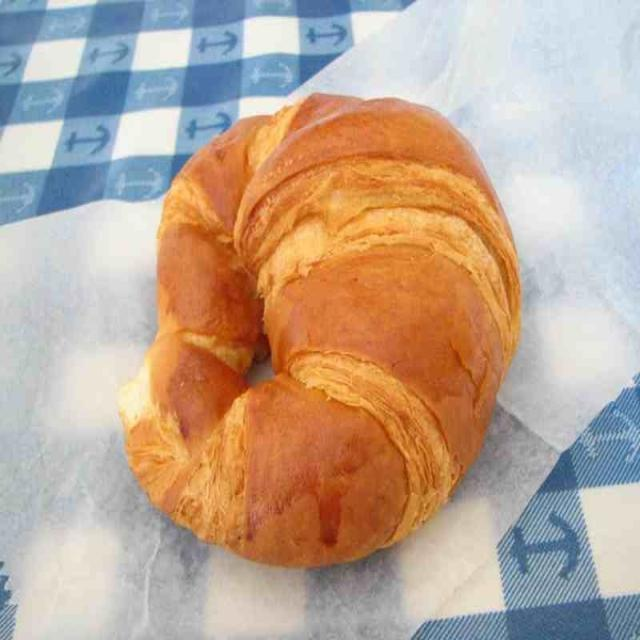Croissant: (115, 72, 530, 578)
